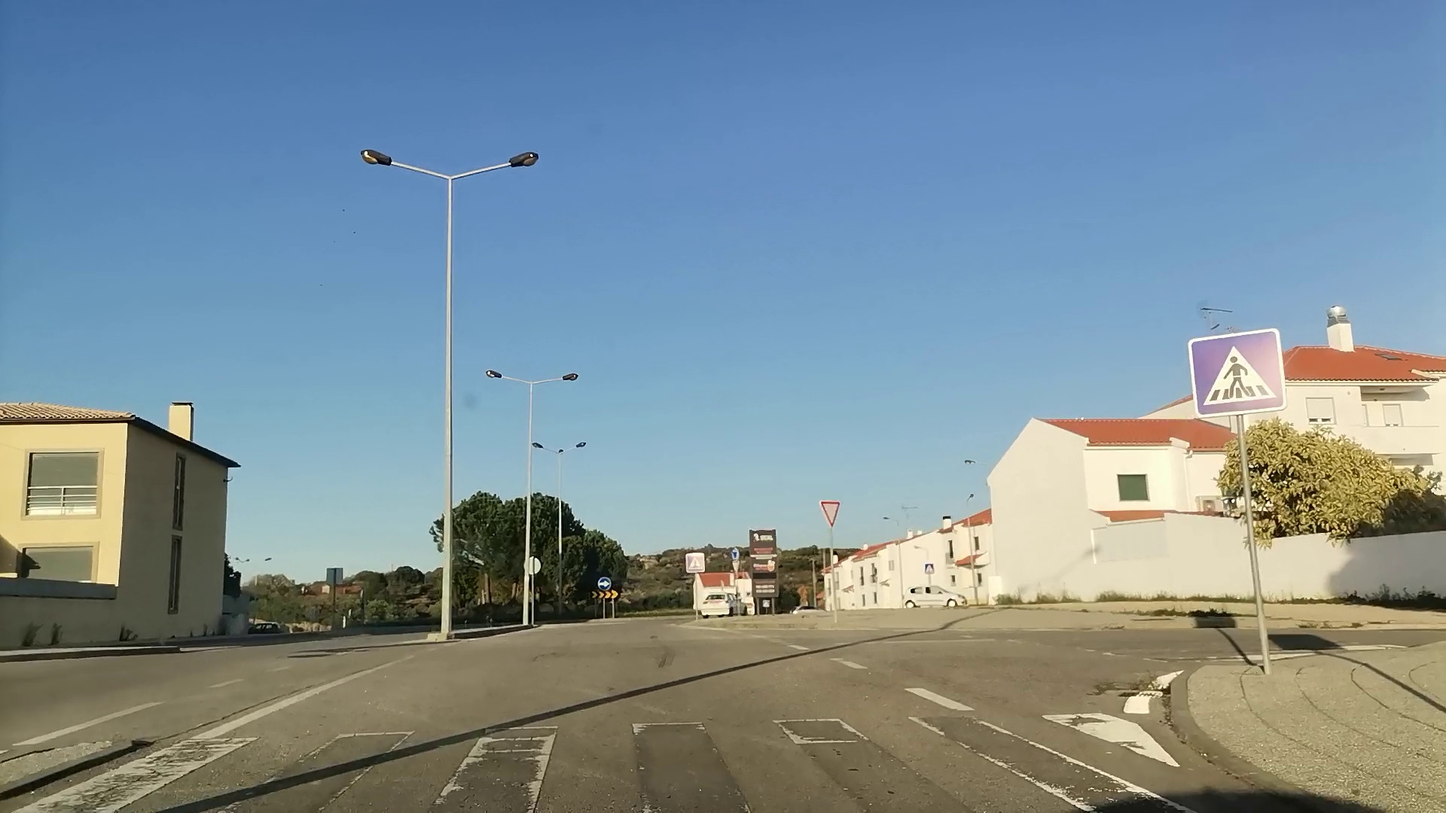Stairs: (11, 698, 1196, 813)
